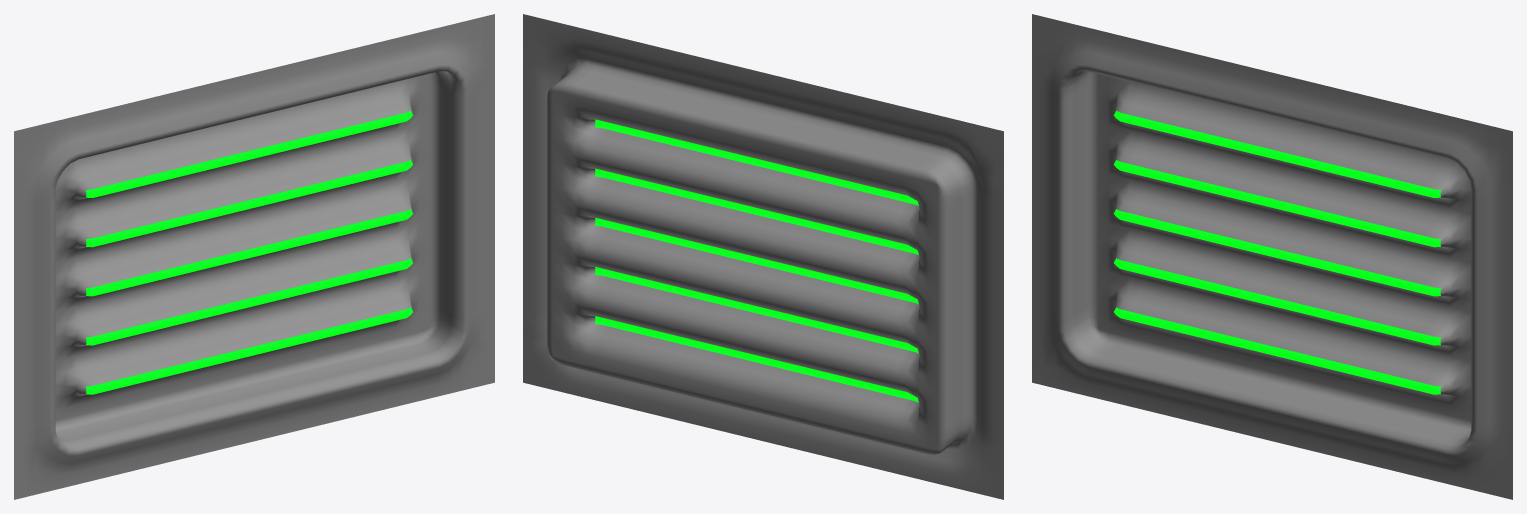
The model's file is WallTile12.fbx.
3 views of the same model, side by side, from view 1: azimuth 30°, elevation 25°; view 2: azimuth 150°, elevation 25°; view 3: azimuth 330°, elevation 25° (orthographic).
Parts seen in each view (by area): view 1: Plane014; view 2: Plane014; view 3: Plane014.
Boxes of the visible parts, x1,y1,x2,y2 form: Plane014: (14,14,494,499); Plane014: (523,14,1003,499); Plane014: (1032,14,1512,499).
Bounding box in the file's own units: 938 × 687 × 77.18.
